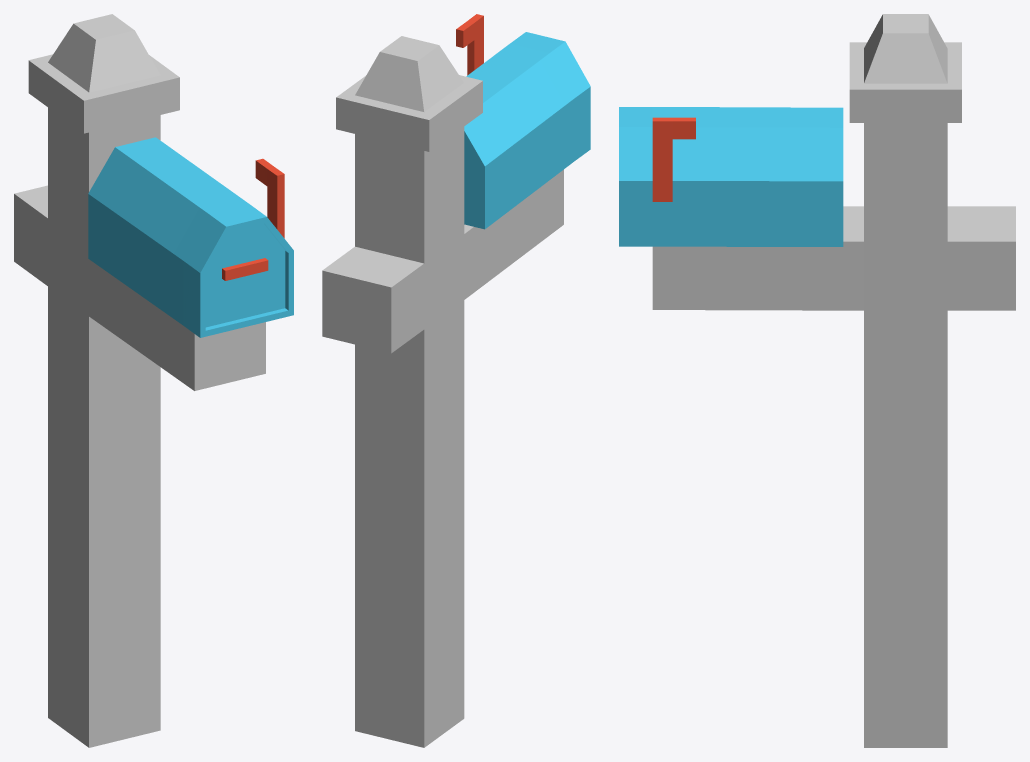
The model's file is mailbox.fbx.
3 views of the same model, side by side, from view 1: azimuth 30°, elevation 25°; view 2: azimuth 150°, elevation 25°; view 3: azimuth 270°, elevation 25° (orthographic). The views are drawn at different scales.
Visible parts, largest first — view 1: mailbox1; view 2: mailbox1; view 3: mailbox1.
Part boxes in pixels (bbox=[...]): mailbox1: bbox=[14, 14, 293, 747]; mailbox1: bbox=[322, 14, 590, 747]; mailbox1: bbox=[619, 14, 1015, 747].
Bounding box in the file's own units: 0.9021 × 5.8 × 2.95.
